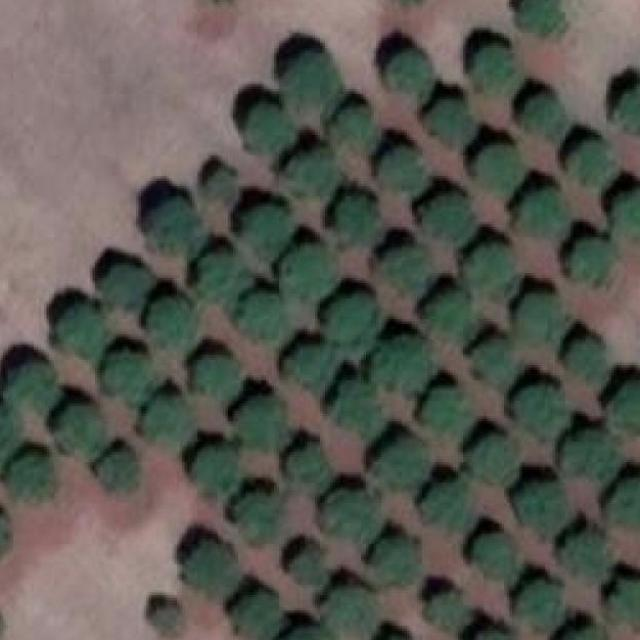Tree: (318, 493, 379, 547), (185, 539, 239, 600), (371, 340, 433, 390), (327, 293, 376, 355), (284, 54, 340, 108), (514, 388, 568, 442), (323, 585, 377, 639), (282, 246, 336, 300), (516, 486, 566, 542), (422, 482, 477, 532), (512, 188, 568, 237), (284, 150, 340, 197), (152, 202, 200, 256), (60, 307, 106, 363), (514, 583, 564, 634), (564, 428, 614, 478), (470, 340, 520, 390), (376, 440, 426, 490), (238, 399, 287, 450), (236, 493, 282, 547), (334, 384, 379, 439), (424, 99, 474, 148), (474, 145, 524, 194), (236, 294, 287, 342), (473, 534, 518, 588), (8, 365, 57, 414), (562, 534, 612, 582), (426, 294, 476, 342), (246, 206, 292, 258), (467, 246, 518, 292), (148, 302, 198, 348), (426, 197, 472, 246), (426, 388, 472, 437), (143, 398, 192, 444), (288, 348, 338, 393), (192, 450, 236, 501), (109, 353, 150, 407), (568, 140, 616, 186), (518, 296, 564, 344), (382, 248, 428, 296), (233, 592, 279, 640), (378, 148, 428, 192), (374, 539, 418, 588), (520, 94, 566, 140), (198, 256, 244, 302), (246, 104, 292, 150), (474, 437, 520, 482), (102, 266, 152, 307), (196, 354, 242, 398), (60, 406, 104, 452), (334, 108, 379, 152), (6, 457, 52, 498), (476, 43, 514, 92), (290, 443, 328, 492), (390, 48, 430, 92), (606, 481, 640, 532), (570, 239, 614, 278), (338, 200, 377, 243), (566, 342, 606, 383), (608, 381, 640, 432), (426, 592, 466, 631), (518, 0, 562, 35), (97, 452, 136, 491), (608, 580, 640, 626), (611, 194, 640, 242), (289, 549, 325, 585), (611, 89, 640, 130), (206, 169, 236, 202), (0, 411, 18, 462), (153, 605, 182, 634), (279, 625, 330, 640), (563, 625, 607, 640), (0, 513, 8, 557)
